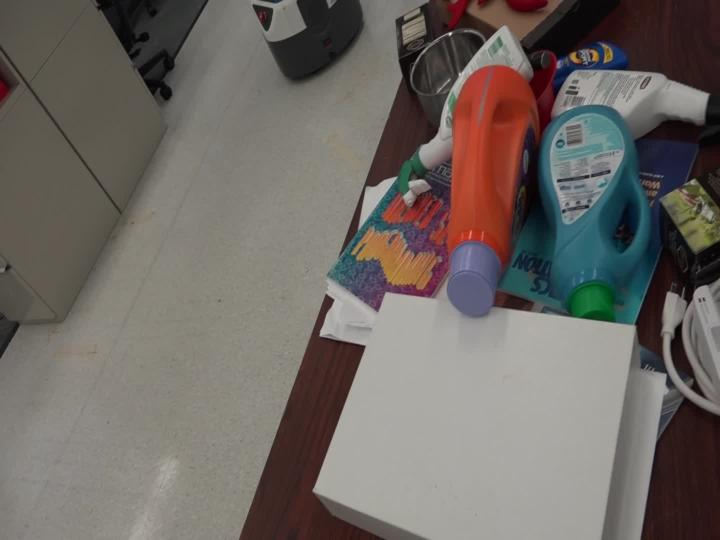downy: (528, 93, 676, 322)
